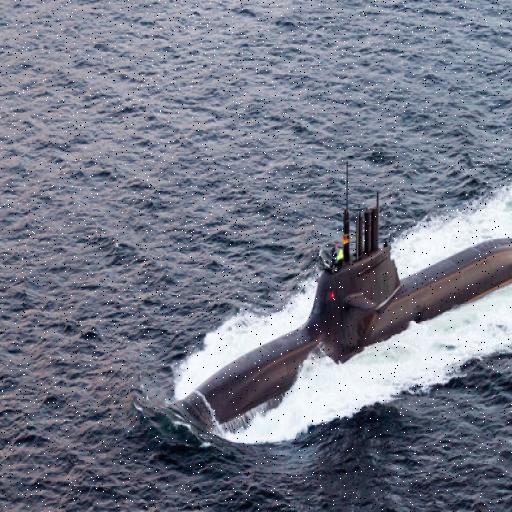submarine: (145, 166, 512, 445)
